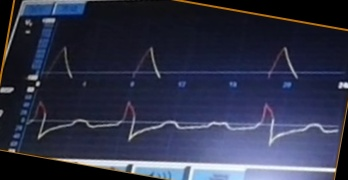Ineffective_effort Flow: (29, 98, 337, 151)
Ineffective_effort Volume: (47, 43, 318, 82)
